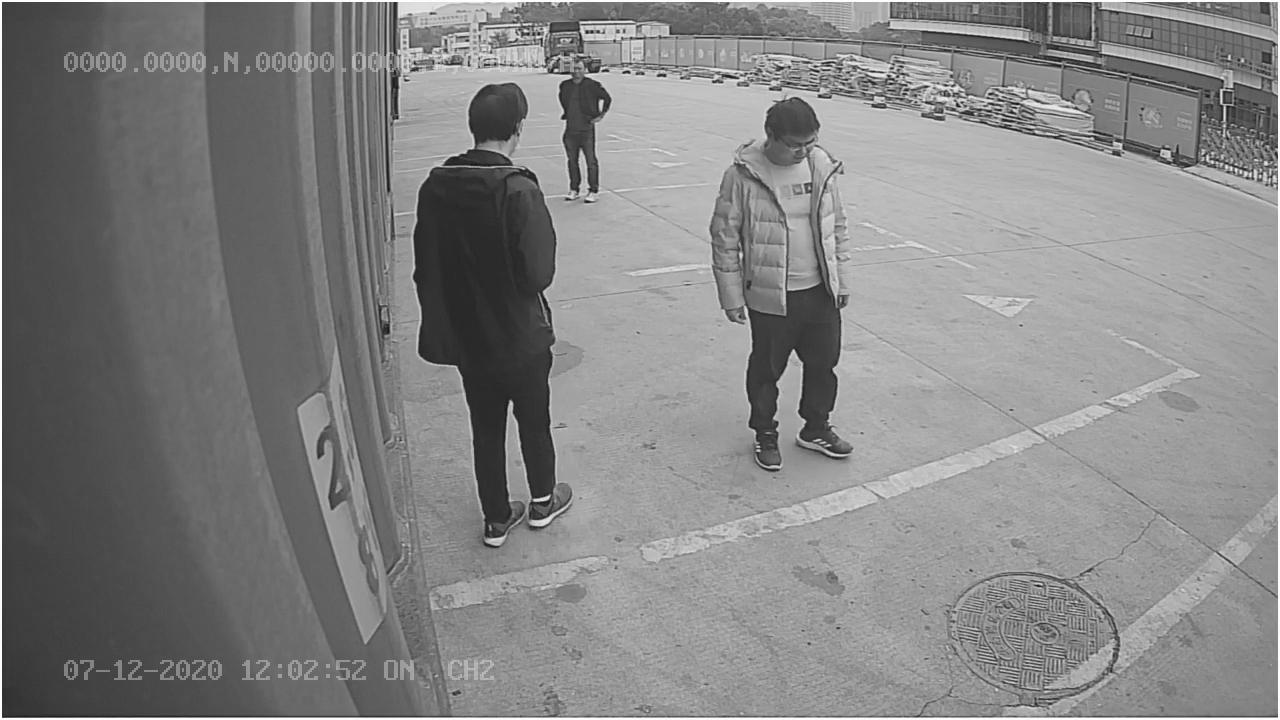person: (404, 73, 585, 561), (713, 86, 861, 470)
